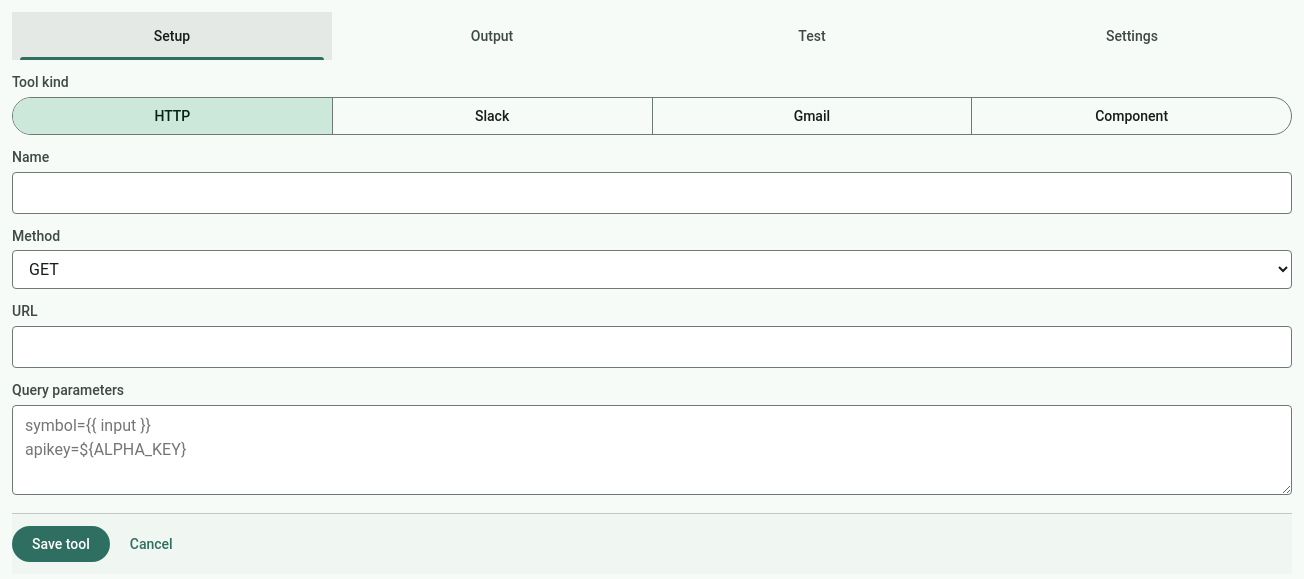
Test: Component kind › says so, and why, when nothing is installed
Click the button "Component": coordinates (1132, 116) [972,98,1291,134]
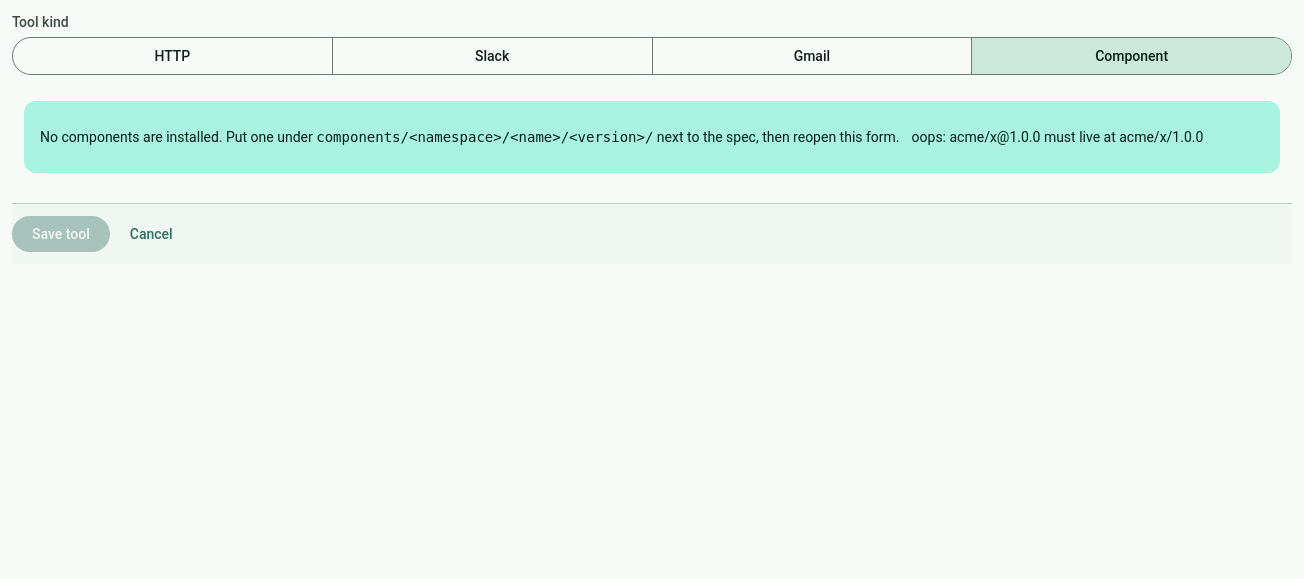
Result: the message shows "No components are installed" at [40,129,313,145]
Result: the list item "oops: acme/x@1.0.0 must live at acme/x/1.0.0" is shown at [912,127,1203,147]
Result: the button "Save tool" is disabled at [12,216,110,252]
